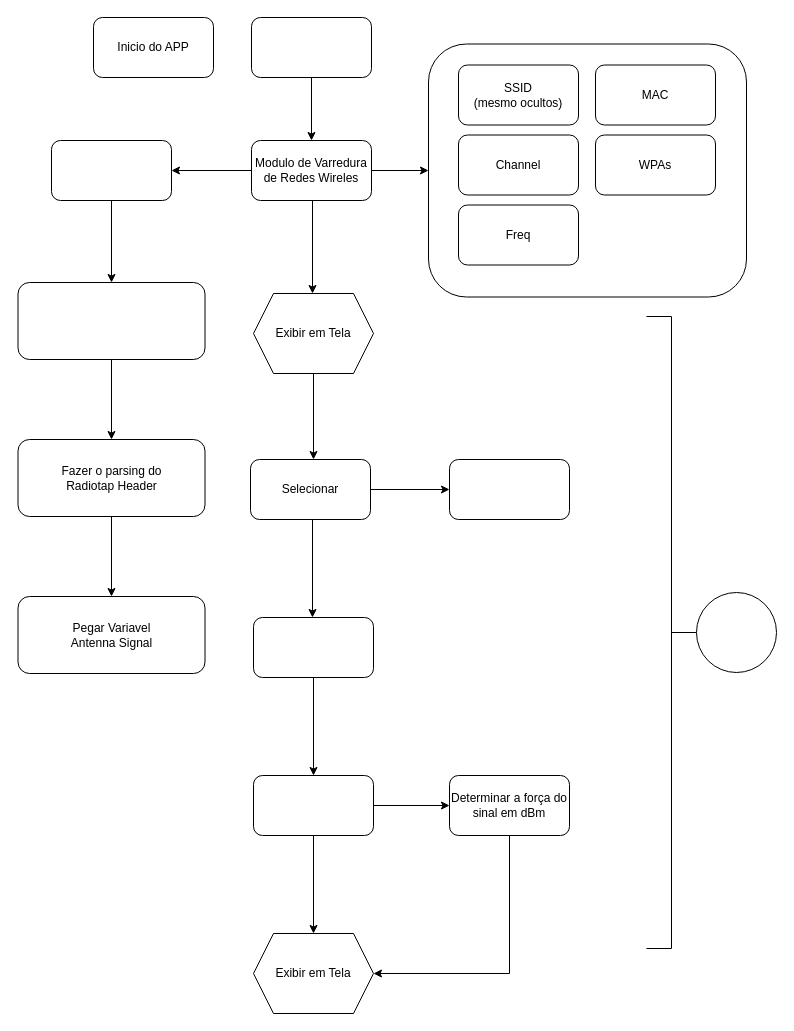
The diagram is 794 pixels wide and 1031 high, and some of its shapes have lost their labels. The shapes that lost their labels are listed below. From the top down, each one's centre as x and y in pixels, then its label:
At pixel 311 47: "Habilitar modo Monitor".
At pixel 111 170: "Pcap4j".
At pixel 111 321: "filtro no kernel via Java: ether src [MAC_DO_ALVO]".
At pixel 509 489: "MAC Address".
At pixel 313 647: "Focar em um unico elemento (MAC)".
At pixel 736 632: "Looping Infinito".
At pixel 313 805: "RSSI".
